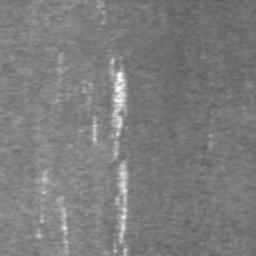White rust: (108, 56, 128, 157), (112, 158, 129, 256), (56, 195, 68, 253), (40, 167, 49, 195), (92, 113, 98, 144), (35, 228, 44, 238), (39, 211, 45, 224)
